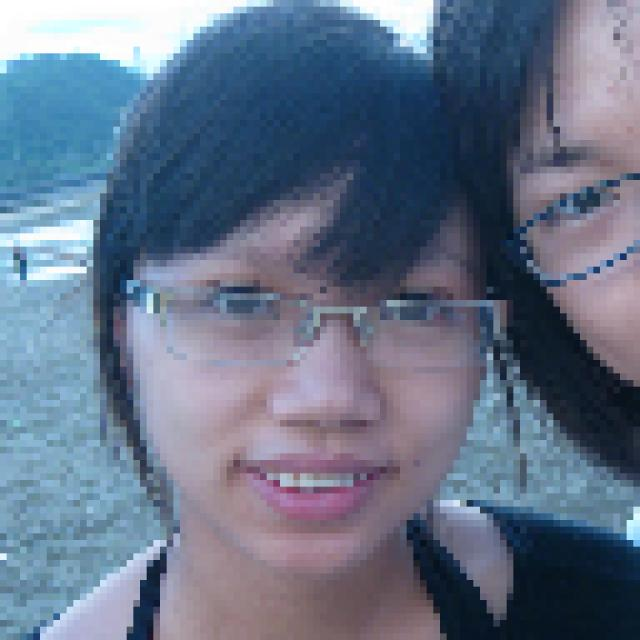happy: (108, 156, 525, 566)
